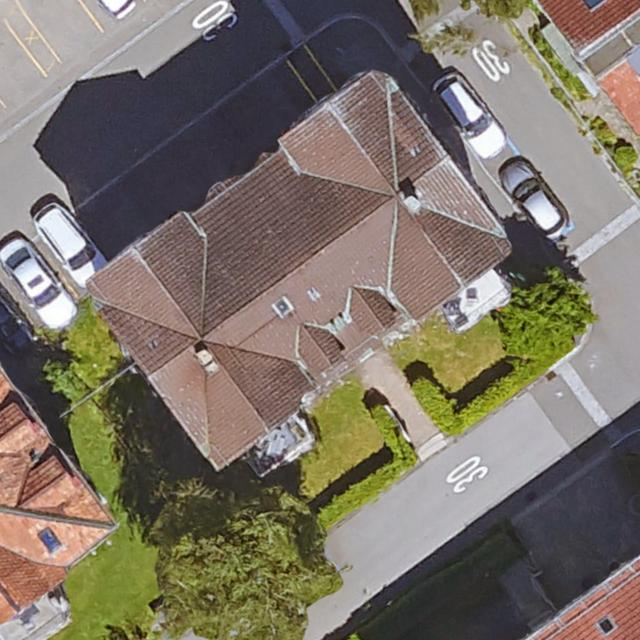tree: (147, 477, 333, 640), (499, 269, 597, 359)
